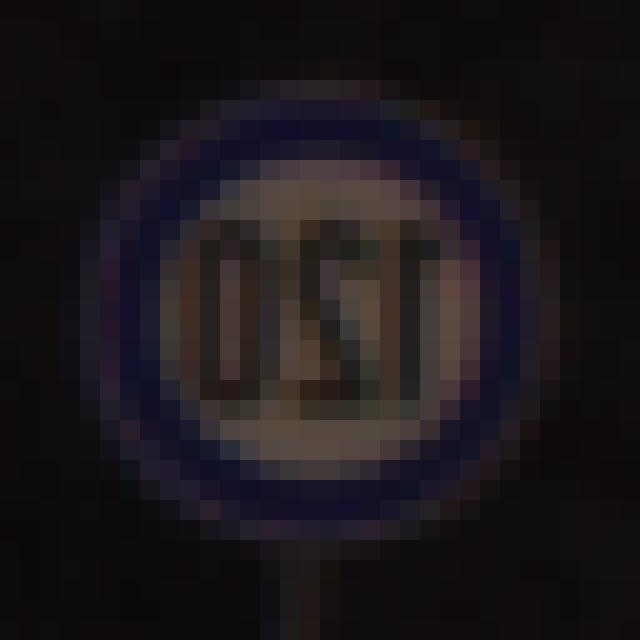SPEED LIMIT 120: (79, 94, 559, 530)
